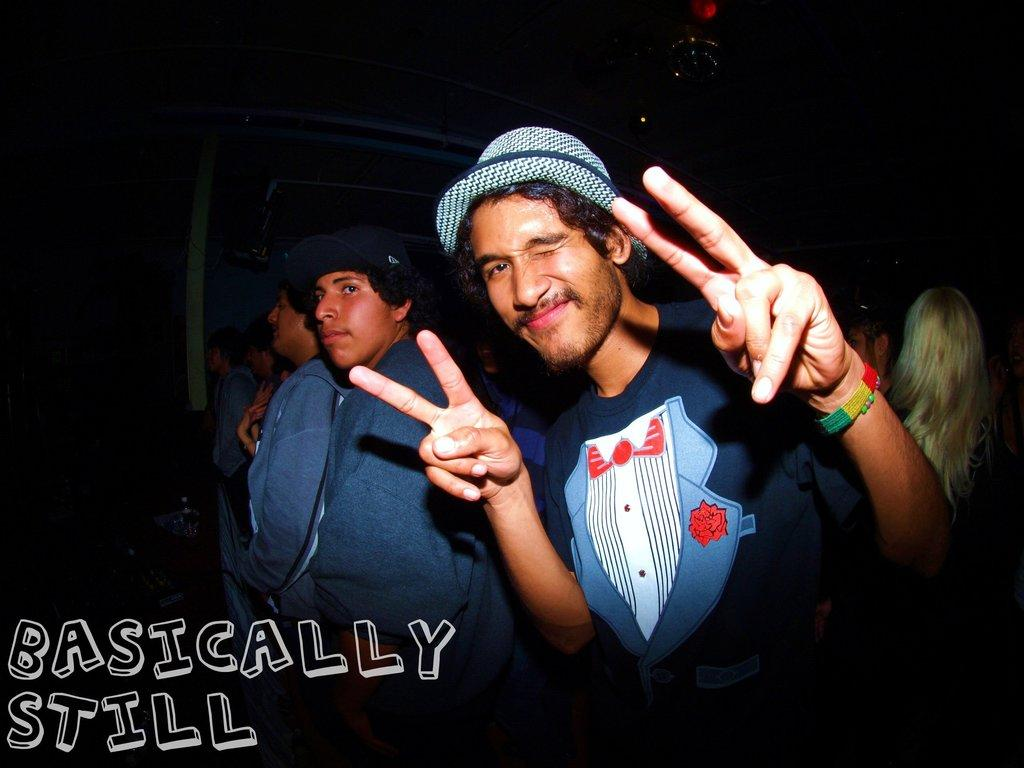Hat: (440, 119, 643, 270)
